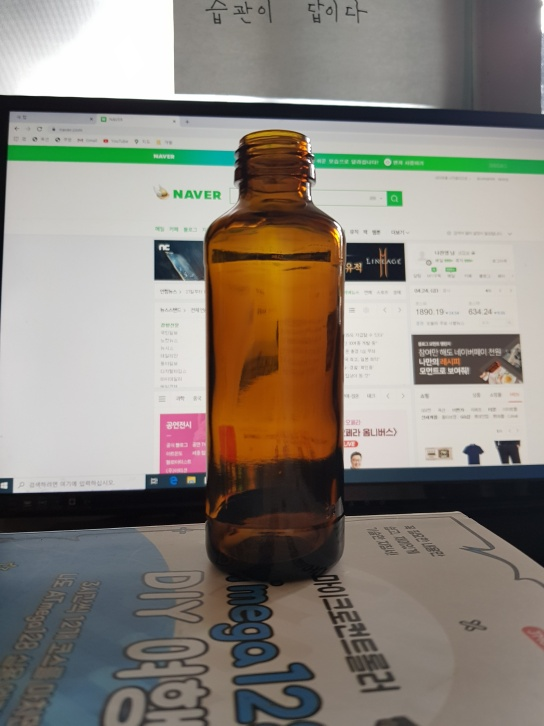Glass: (203, 132, 345, 580)
